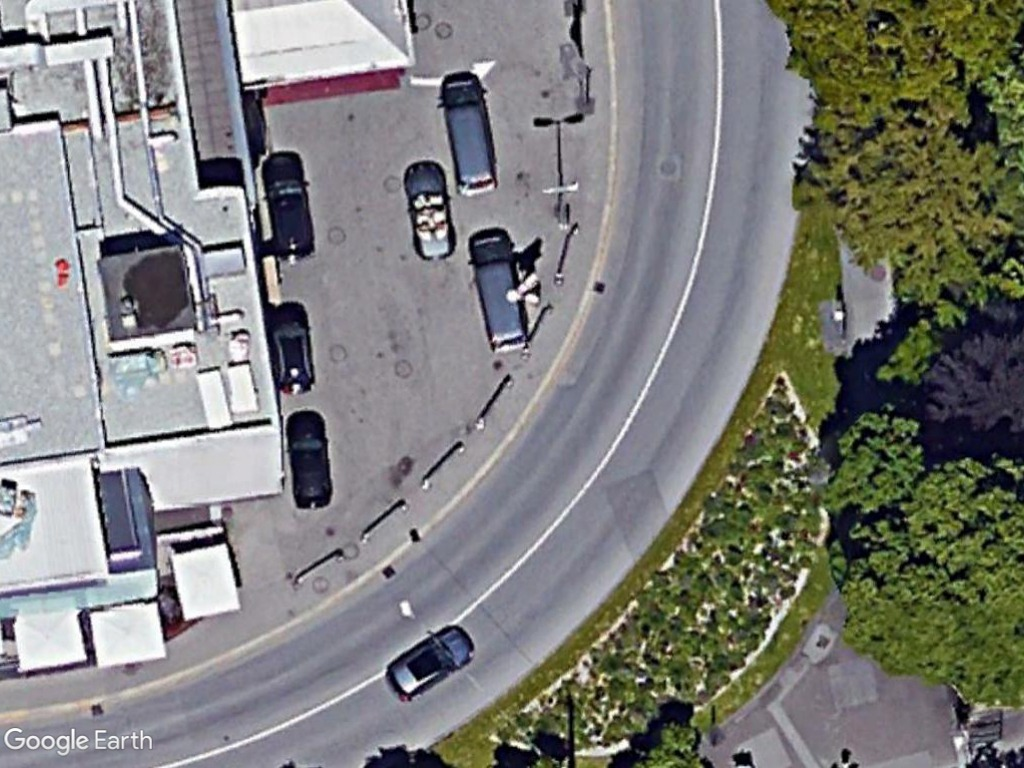boat: (467, 228, 530, 353)
car: (384, 623, 473, 705)
van: (434, 70, 504, 200)
